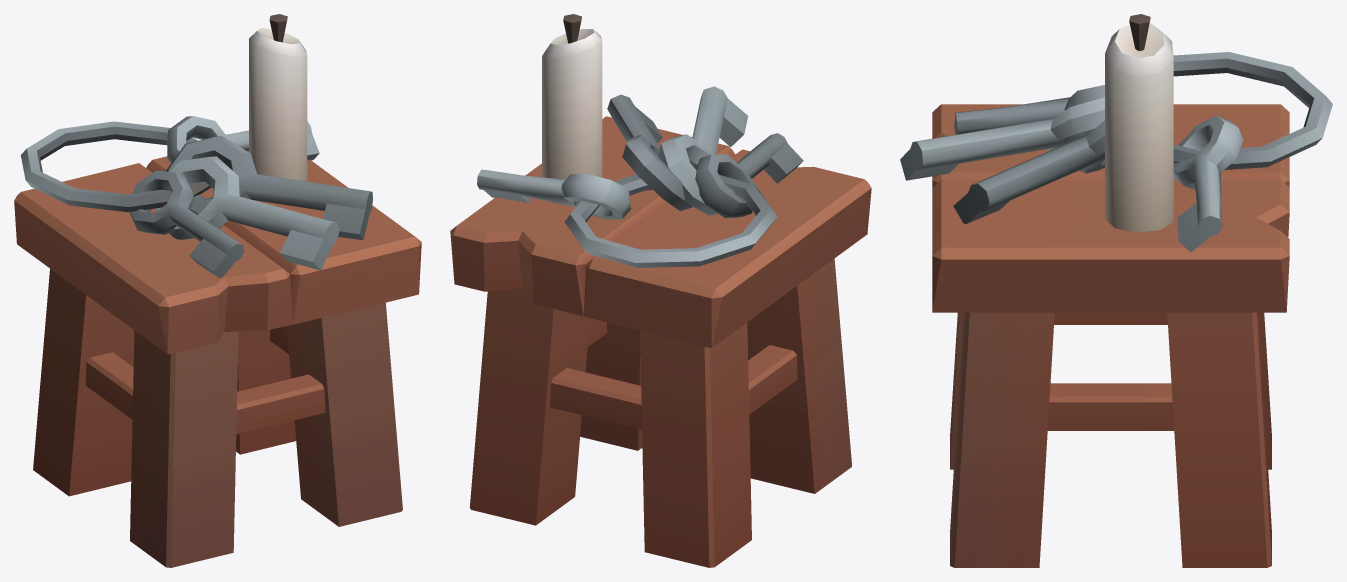
File: kay-mesinha.gltf
3 renders of one model, left to right at view 1: azimuth 30°, elevation 25°; view 2: azimuth 150°, elevation 25°; view 3: azimuth 270°, elevation 25°, orthographic. The views are drawn at different scales.
Parts seen in each view (by area): view 1: table_small_decorated_A; view 2: table_small_decorated_A; view 3: table_small_decorated_A.
Boxes of the visible parts, x1,y1,x2,y2 form: table_small_decorated_A: (14, 14, 421, 567); table_small_decorated_A: (450, 14, 871, 567); table_small_decorated_A: (900, 14, 1332, 567).
Size of the model in its own units: 0.6753 by 1.05 by 0.7873.
Materials: 1 (1 with a texture image).
